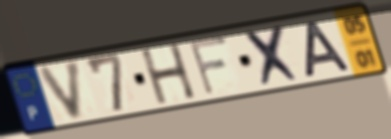7: (83, 52, 127, 114)
A: (304, 18, 354, 80)
F: (186, 33, 231, 98)
H: (138, 40, 200, 107)
V: (36, 57, 84, 122)
X: (241, 22, 306, 90)
